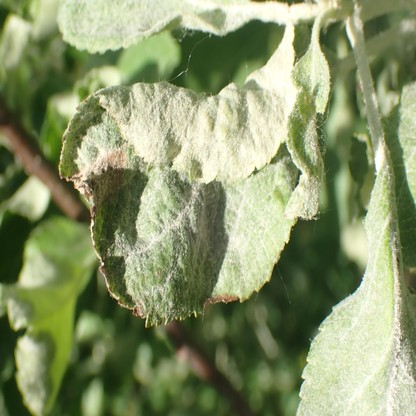powder: (61, 20, 298, 327), (298, 150, 416, 415), (60, 0, 256, 52), (287, 44, 331, 216), (381, 83, 416, 230)
